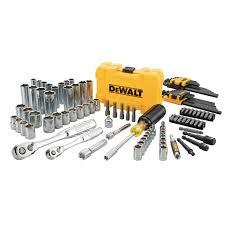wrench: (9, 116, 96, 160), (44, 125, 103, 160), (162, 88, 223, 115), (162, 75, 219, 99)
